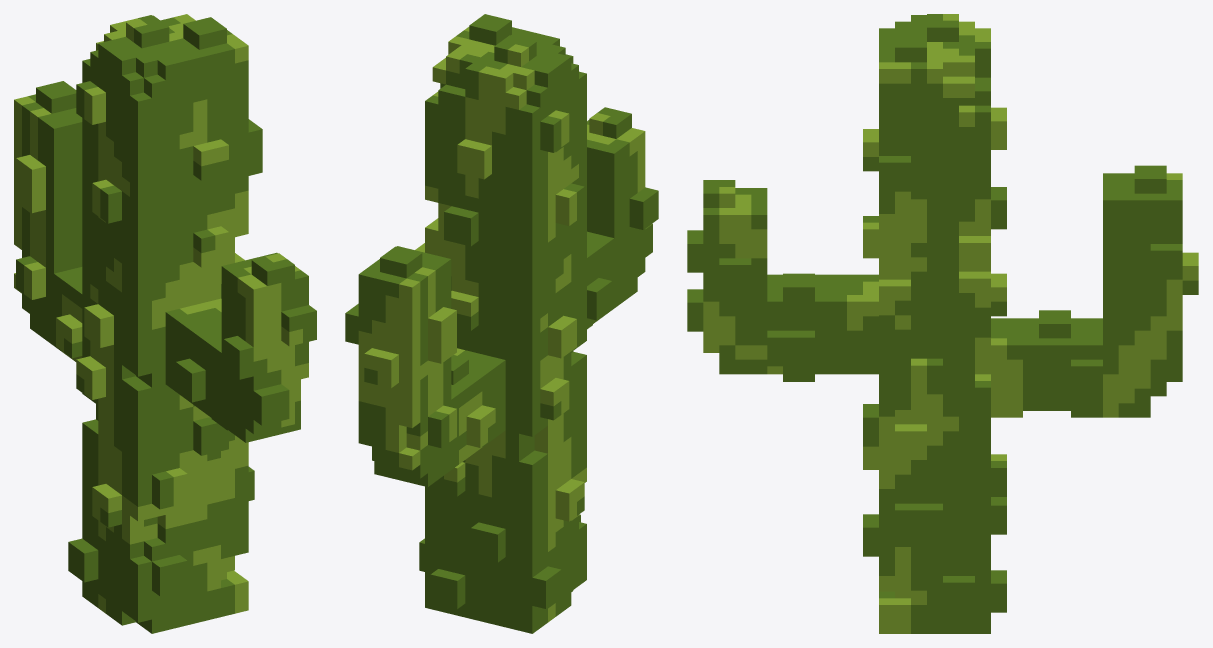
File: Mini-Oasis-Del-Desierto-1.obj
3 views of the same model, side by side, from view 1: azimuth 30°, elevation 25°; view 2: azimuth 150°, elevation 25°; view 3: azimuth 270°, elevation 25° (orthographic). The views are drawn at different scales.
Size of the model in its own units: 1 by 4 by 3.2.
1 material, 1 textured.
